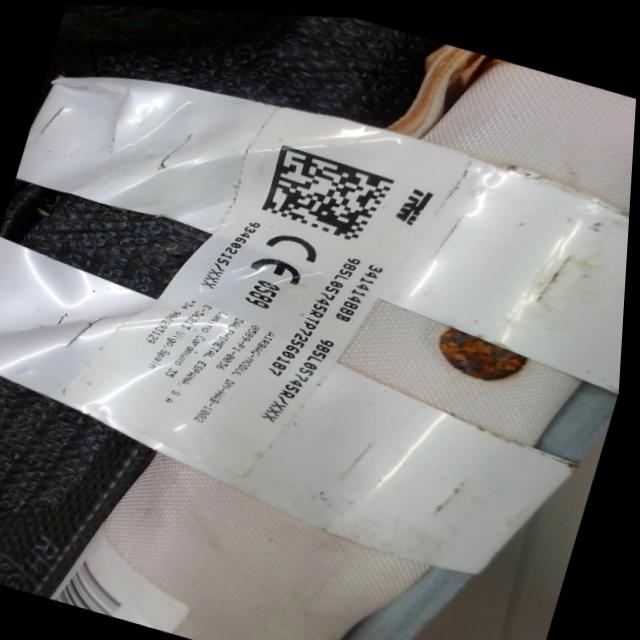datamatrix: (261, 141, 399, 244)
